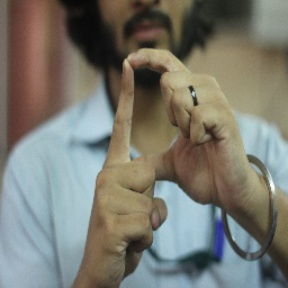D: (93, 46, 225, 199)
